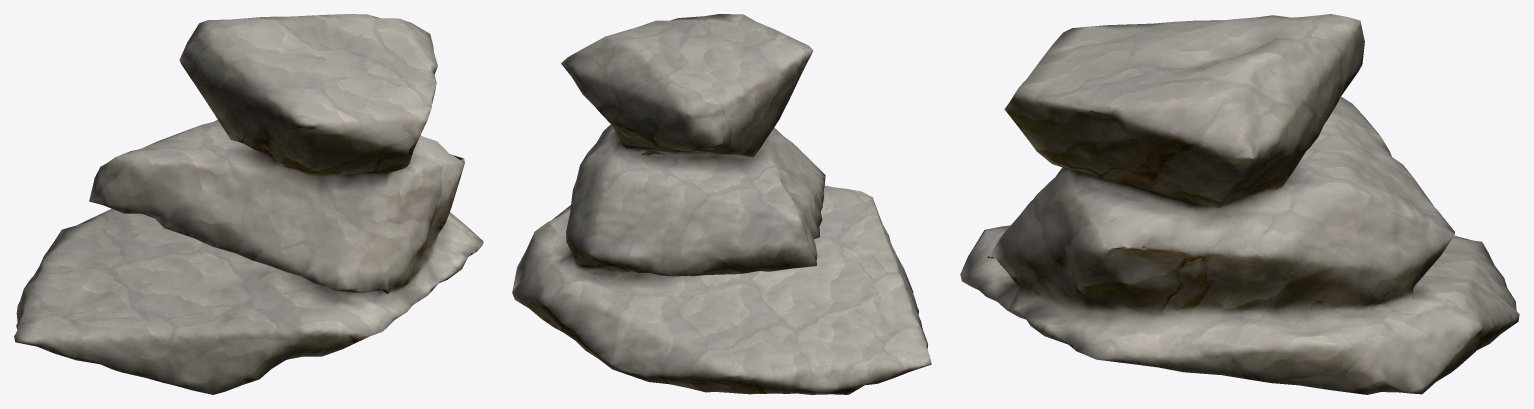
File: boulder_slabs_c.glb
3 renders of one model, left to right at view 1: azimuth 30°, elevation 25°; view 2: azimuth 150°, elevation 25°; view 3: azimuth 270°, elevation 25°, orthographic. The views are drawn at different scales.
Parts seen in each view (by area): view 1: rock; view 2: rock; view 3: rock.
Part boxes in pixels (box(x1,y1,x2,y2)): rock: box(14, 14, 483, 394); rock: box(512, 14, 931, 394); rock: box(960, 14, 1519, 394).
Bounding box in the file's own units: 1.24 × 0.8511 × 1.19.
Materials: 1 (1 with a texture image).
